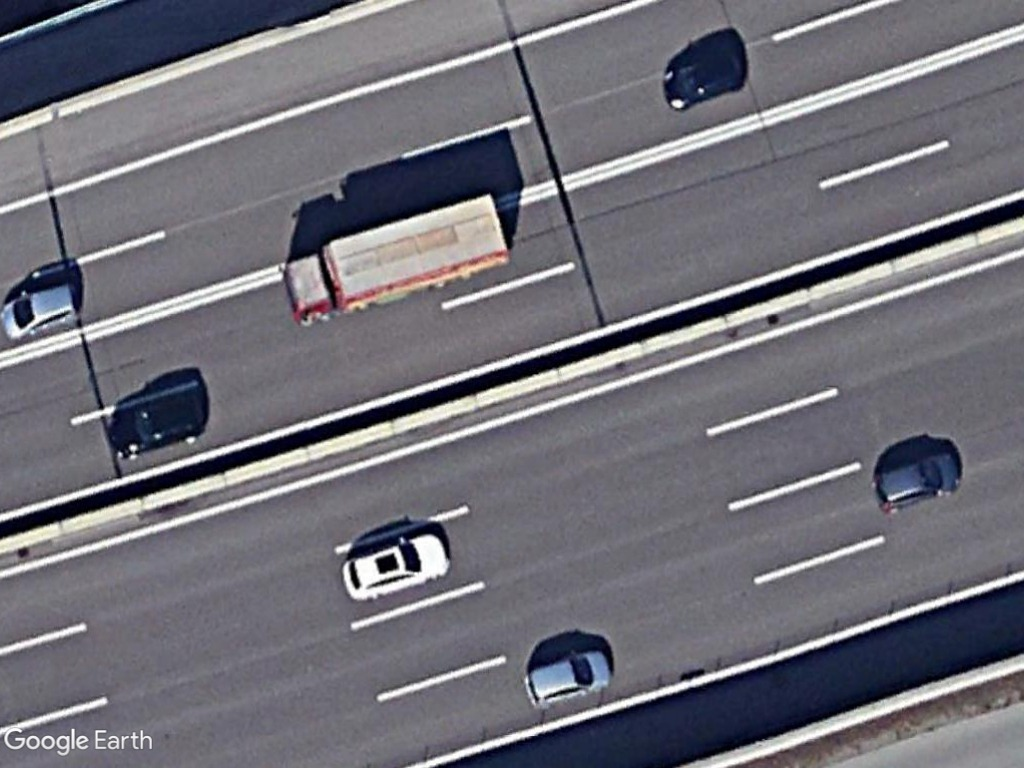car: (339, 533, 449, 604), (871, 450, 963, 516), (523, 647, 613, 710), (0, 280, 83, 345)
truck: (279, 190, 510, 330)
